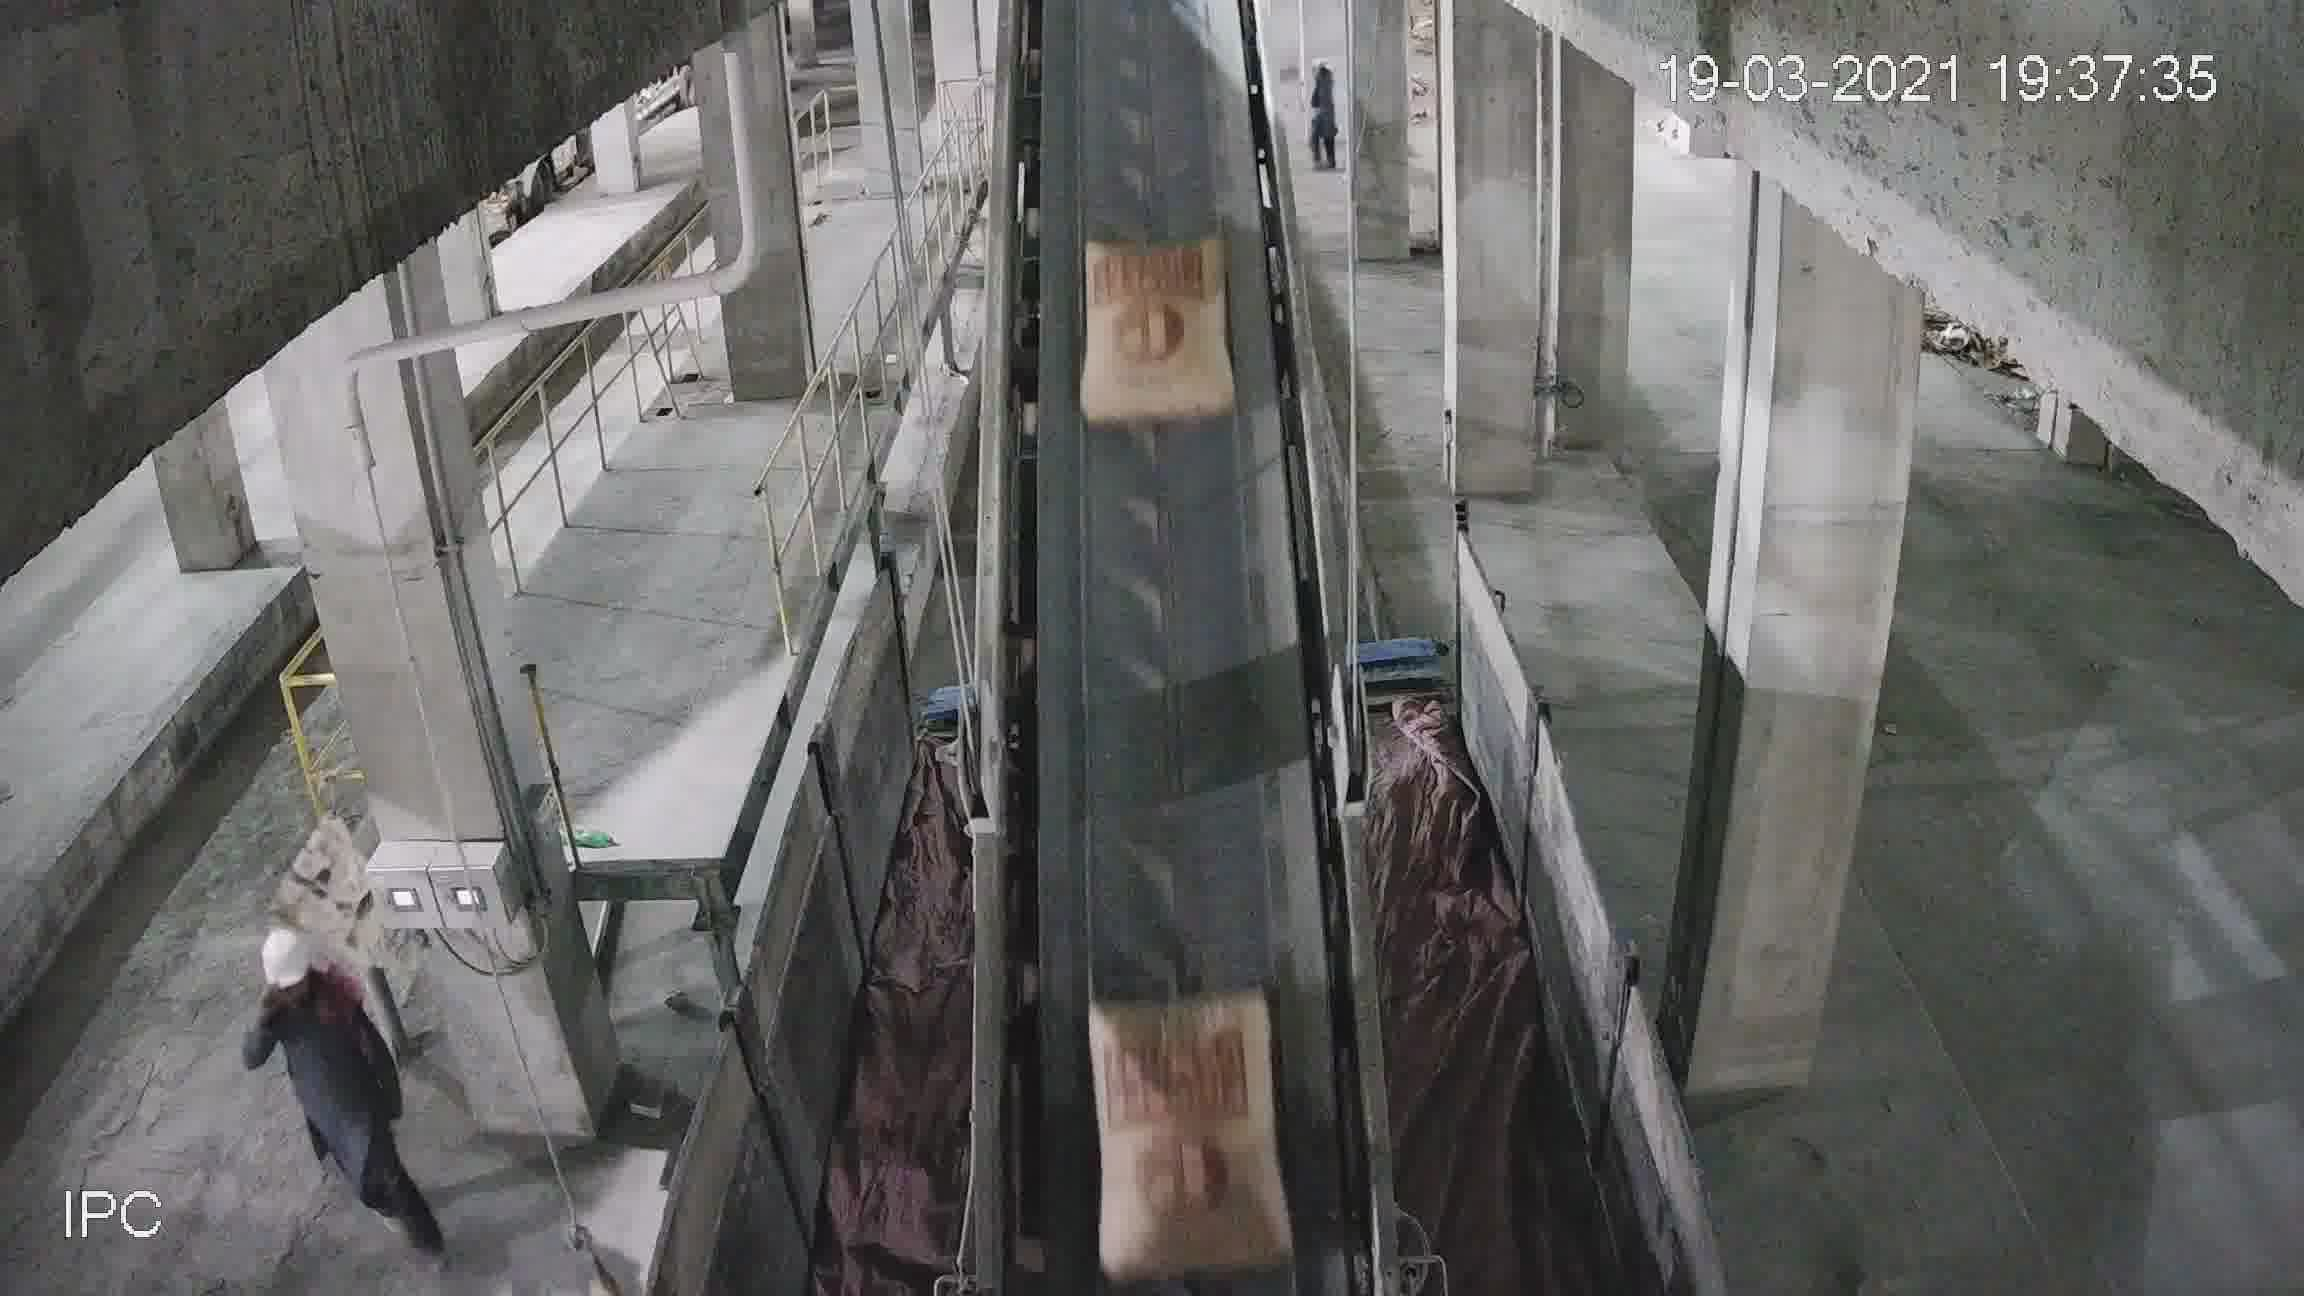bag: (1093, 991, 1279, 1187), (1078, 237, 1233, 426)
belt: (980, 71, 1353, 1154)
